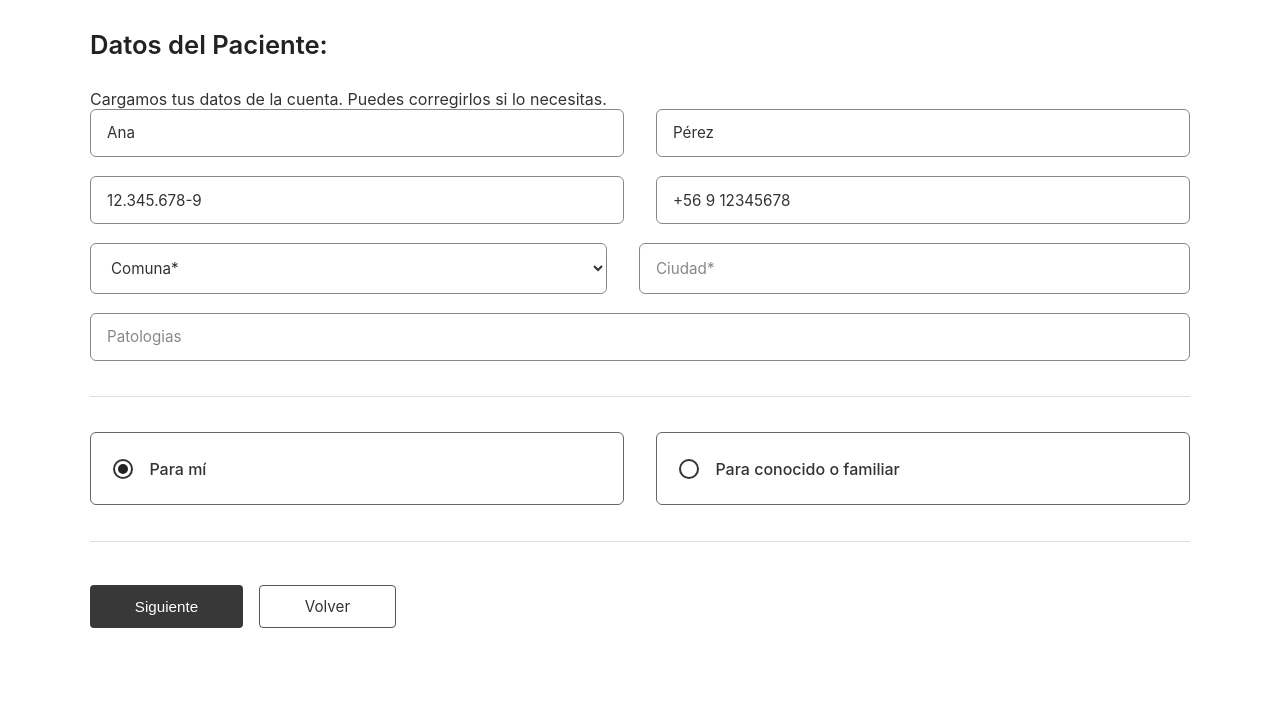
Datos › al elegir "Para conocido o familiar" vacía el formulario y al volver a "Para mí" recupera los datos
(page scrolled)
Expected: the 1st field with placeholder "Nombre*" holds "Ana", [90,109,624,157]
Click the radio button labelled "Para conocido o familiar".
click(808, 469)  # box [656,432,1190,506]
(page scrolled)
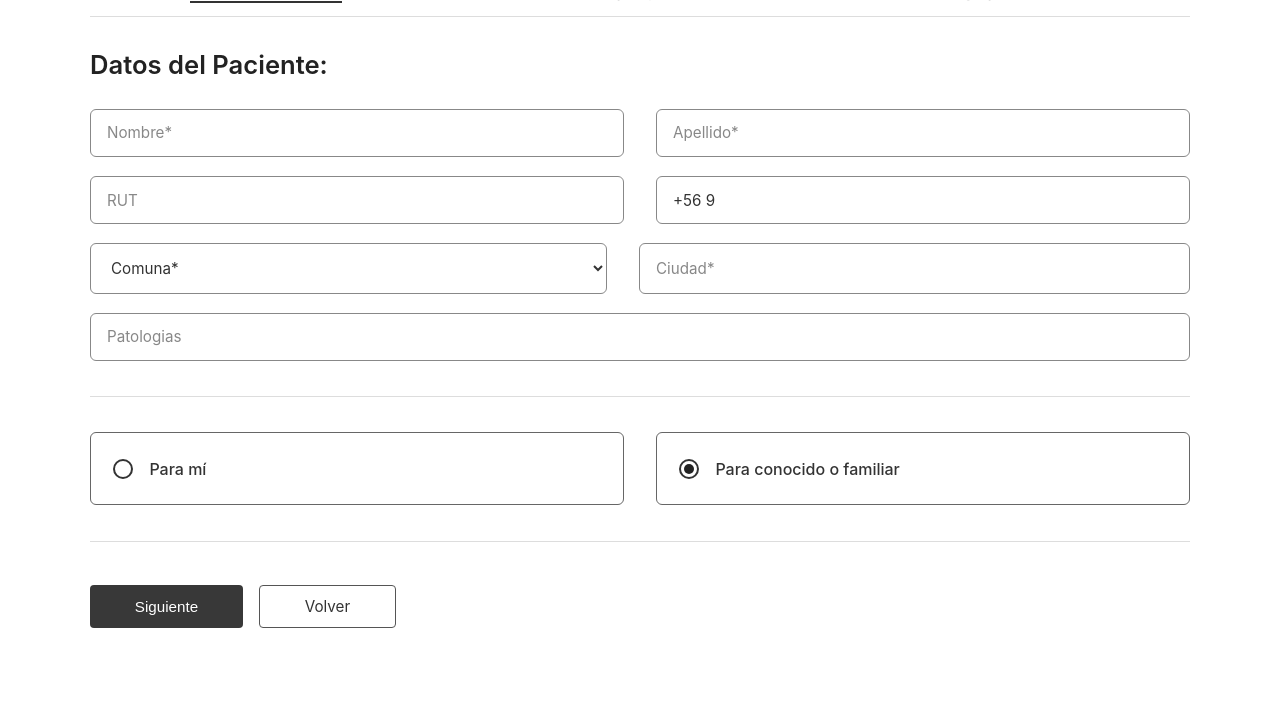
Expected: the field with placeholder "Nombre*" is empty, [90,109,624,157]
Click the radio button labelled "Para mí".
click(178, 469)  # box [90,432,624,506]
(page scrolled)
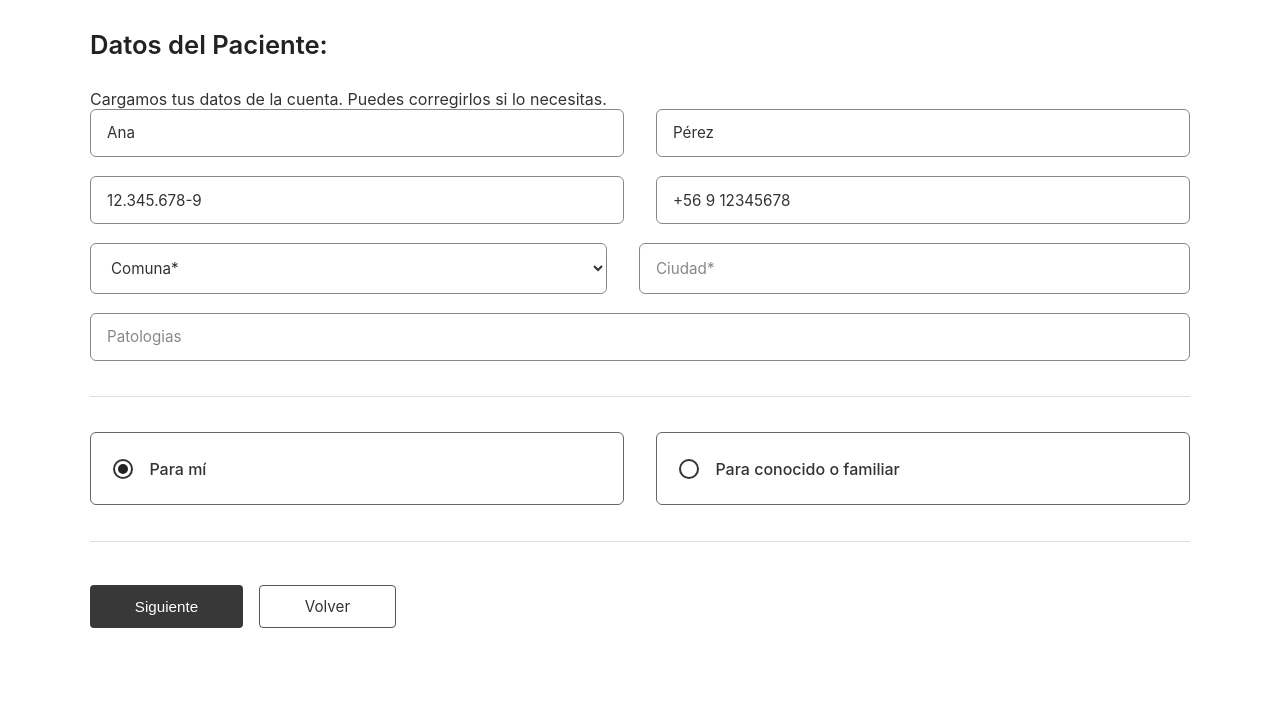
Expected: the 1st field with placeholder "Nombre*" holds "Ana", [90,109,624,157]
